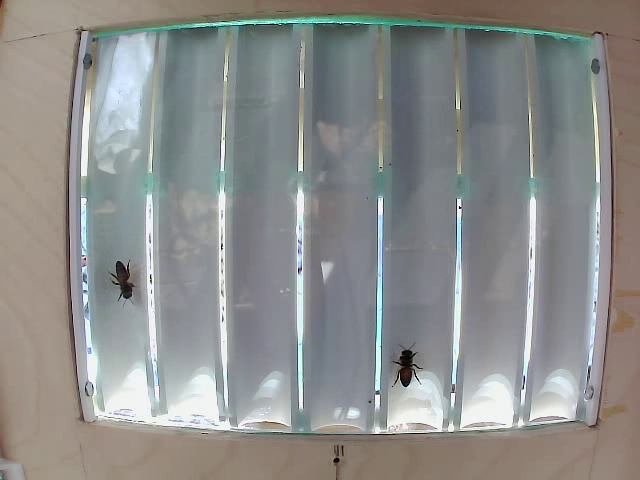bee: (105, 255, 158, 294), (387, 342, 428, 386)
